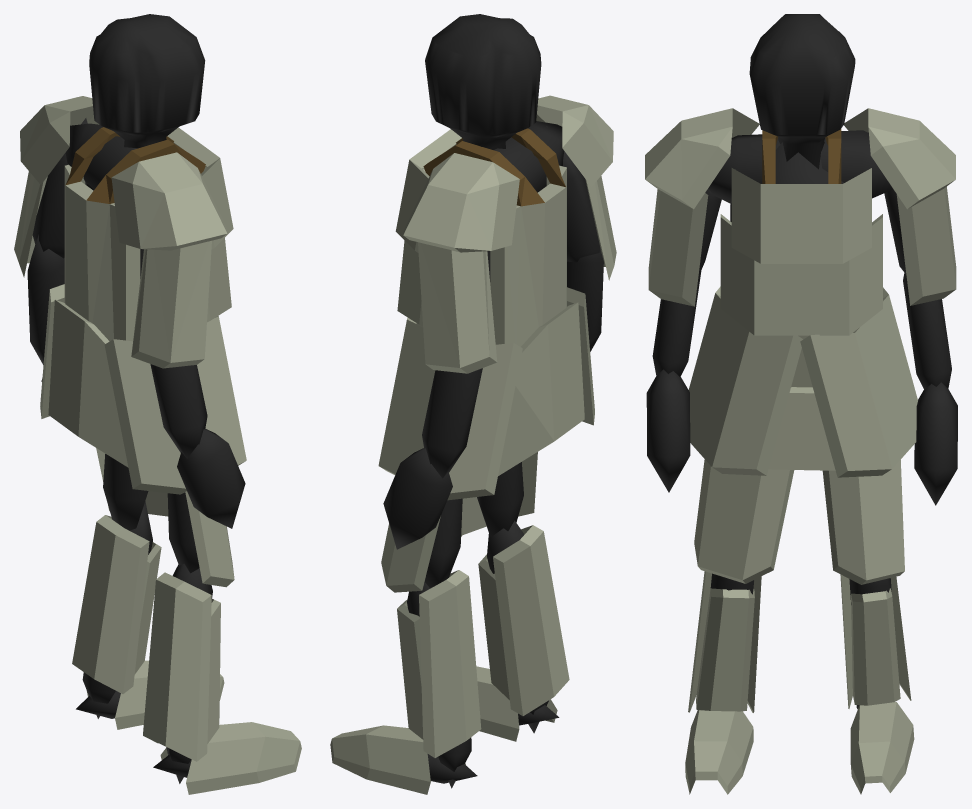
Rendered from Knight.dae.
3 renders of one model, left to right at view 1: azimuth 30°, elevation 25°; view 2: azimuth 150°, elevation 25°; view 3: azimuth 270°, elevation 25°, orthographic. The views are drawn at different scales.
Visible parts, largest first — view 1: Plane, Icosphere, Icosphere.011, Icosphere.010, Plane.006, Plane.001, Plane.002, Plane.007, Icosphere.014, Icosphere.006, Plane.008, Plane.004 (+9 smaller); view 2: Plane, Icosphere, Icosphere.011, Icosphere.010, Plane.005, Plane.007, Plane.004, Plane.003, Icosphere.013, Icosphere.009, Icosphere.008, Icosphere.005 (+9 smaller); view 3: Plane, Plane.005, Plane.006, Icosphere, Plane.008, Icosphere.011, Icosphere.009, Icosphere.010, Plane.001, Plane.004, Plane.002, Plane.003 (+11 smaller).
Boxes of the visible parts, left/top/right/bottom form: Plane: left=64, top=127, right=233, bottom=341; Icosphere: left=89, top=14, right=205, bottom=148; Icosphere.011: left=143, top=563, right=220, bottom=761; Icosphere.010: left=72, top=501, right=161, bottom=693; Plane.006: left=104, top=316, right=246, bottom=494; Plane.001: left=111, top=152, right=227, bottom=250; Plane.002: left=131, top=240, right=211, bottom=368; Plane.007: left=48, top=299, right=128, bottom=467; Icosphere.014: left=153, top=722, right=301, bottom=794; Icosphere.006: left=177, top=428, right=245, bottom=528; Plane.008: left=167, top=491, right=234, bottom=587; Plane.004: left=20, top=96, right=99, bottom=184; Plane: left=395, top=128, right=566, bottom=346; Icosphere: left=425, top=14, right=541, bottom=149; Icosphere.011: left=478, top=520, right=569, bottom=715; Icosphere.010: left=397, top=570, right=481, bottom=757; Plane.005: left=378, top=317, right=522, bottom=500; Plane.007: left=498, top=302, right=584, bottom=475; Plane.004: left=403, top=153, right=519, bottom=252; Plane.003: left=418, top=242, right=497, bottom=373; Icosphere.013: left=330, top=725, right=477, bottom=794; Icosphere.009: left=381, top=498, right=462, bottom=592; Icosphere.008: left=383, top=448, right=452, bottom=549; Icosphere.005: left=422, top=368, right=482, bottom=478; Plane: left=720, top=129, right=882, bottom=387; Plane.005: left=800, top=287, right=917, bottom=477; Plane.006: left=688, top=286, right=802, bottom=475; Icosphere: left=749, top=14, right=855, bottom=169; Plane.008: left=694, top=459, right=794, bottom=583; Icosphere.011: left=688, top=571, right=761, bottom=712; Icosphere.009: left=822, top=460, right=904, bottom=584; Icosphere.010: left=840, top=574, right=911, bottom=708; Plane.001: left=645, top=108, right=759, bottom=209; Plane.004: left=844, top=108, right=955, bottom=209; Plane.002: left=648, top=189, right=708, bottom=306; Plane.003: left=896, top=186, right=956, bottom=305.
Size of the model in its own units: 1.46 by 2.05 by 5.25.
